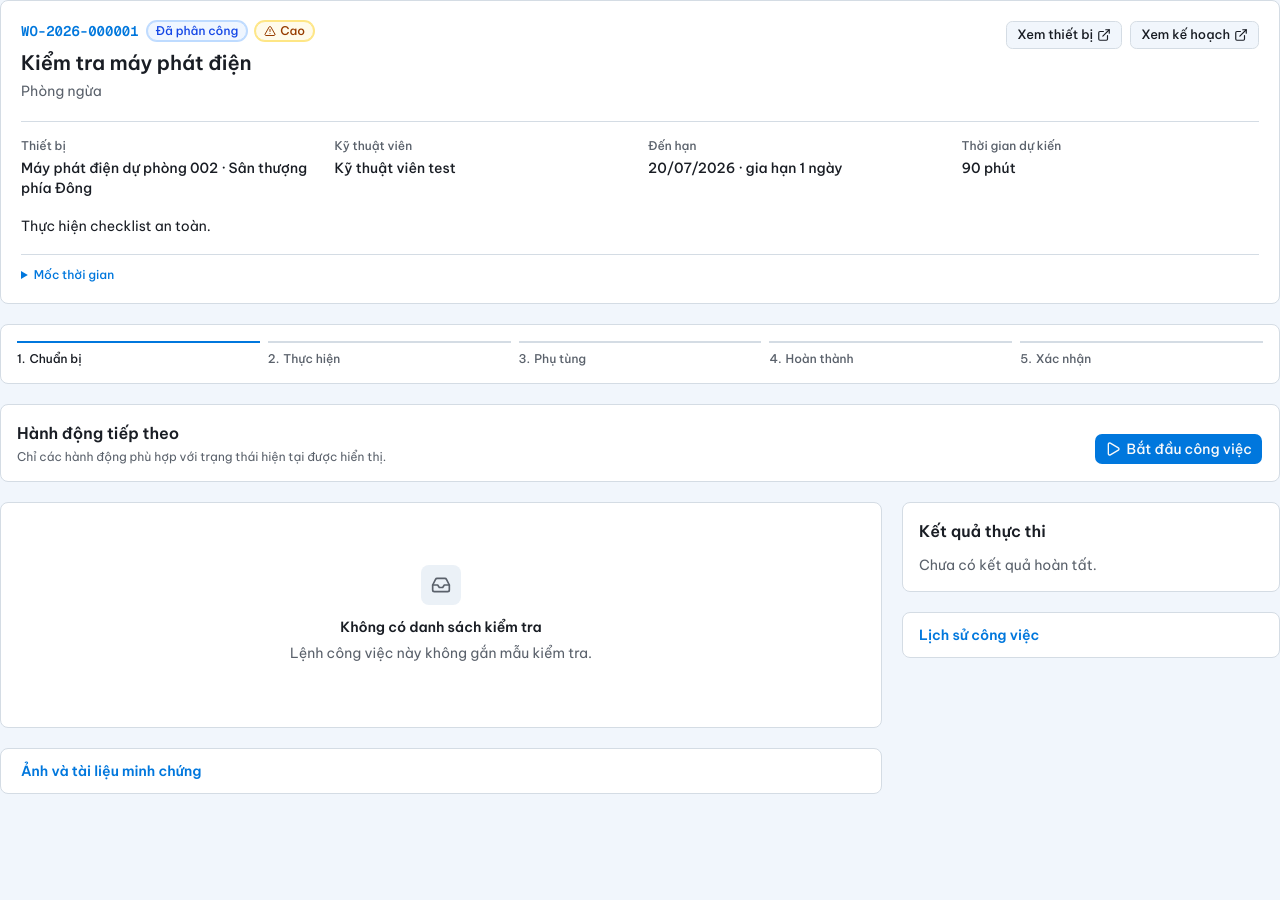
Test: work-order technician workflow › surfaces a stale-version conflict and offers state refresh
Click the button "Bắt đầu công việc" at (1178, 449), box x1=1094 y1=433 x2=1263 y2=465
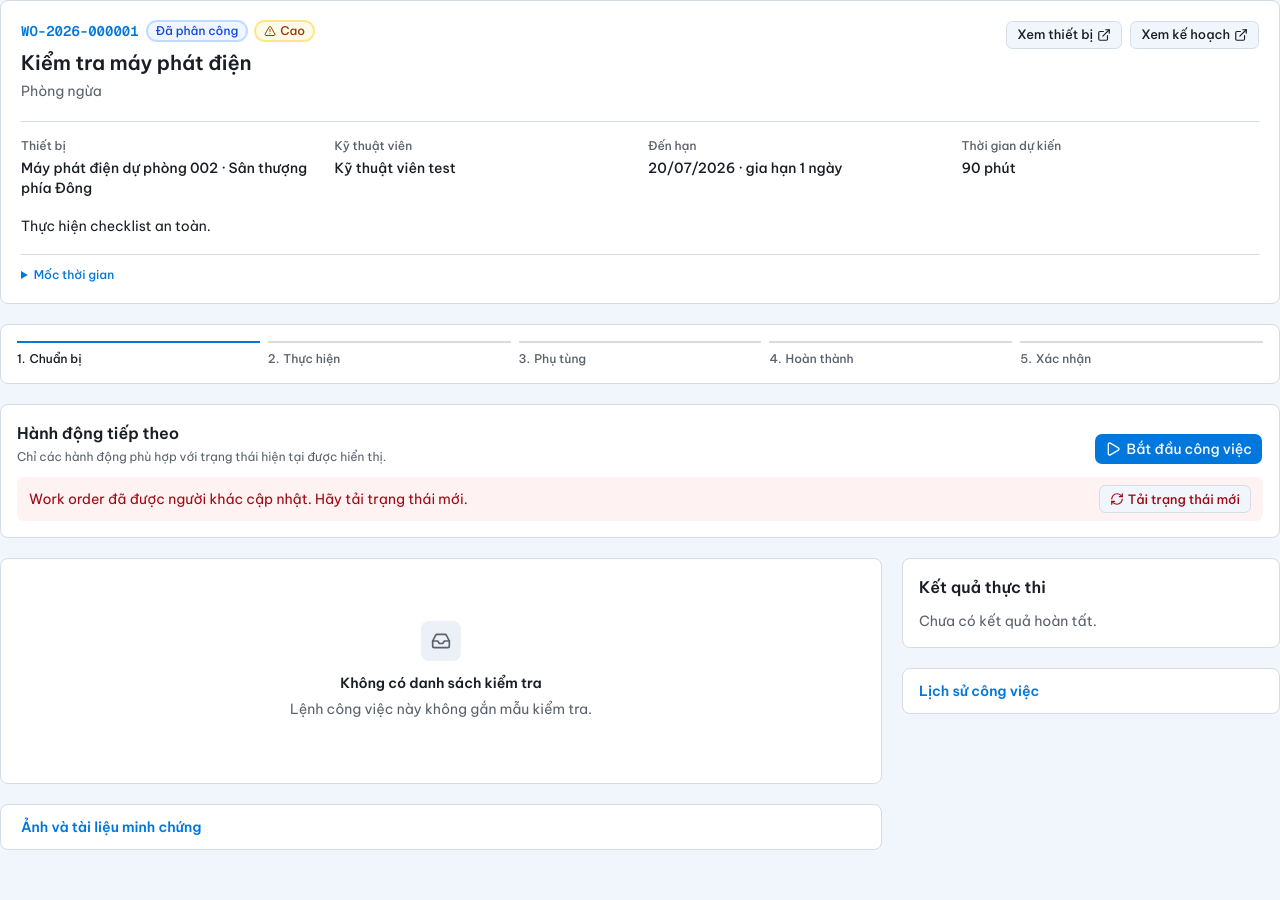
Result: the text "đã được người khác cập nhật" is shown at x1=29 y1=490 x2=468 y2=508
Result: the button "Tải trạng thái mới" is shown at x1=1099 y1=485 x2=1251 y2=513
